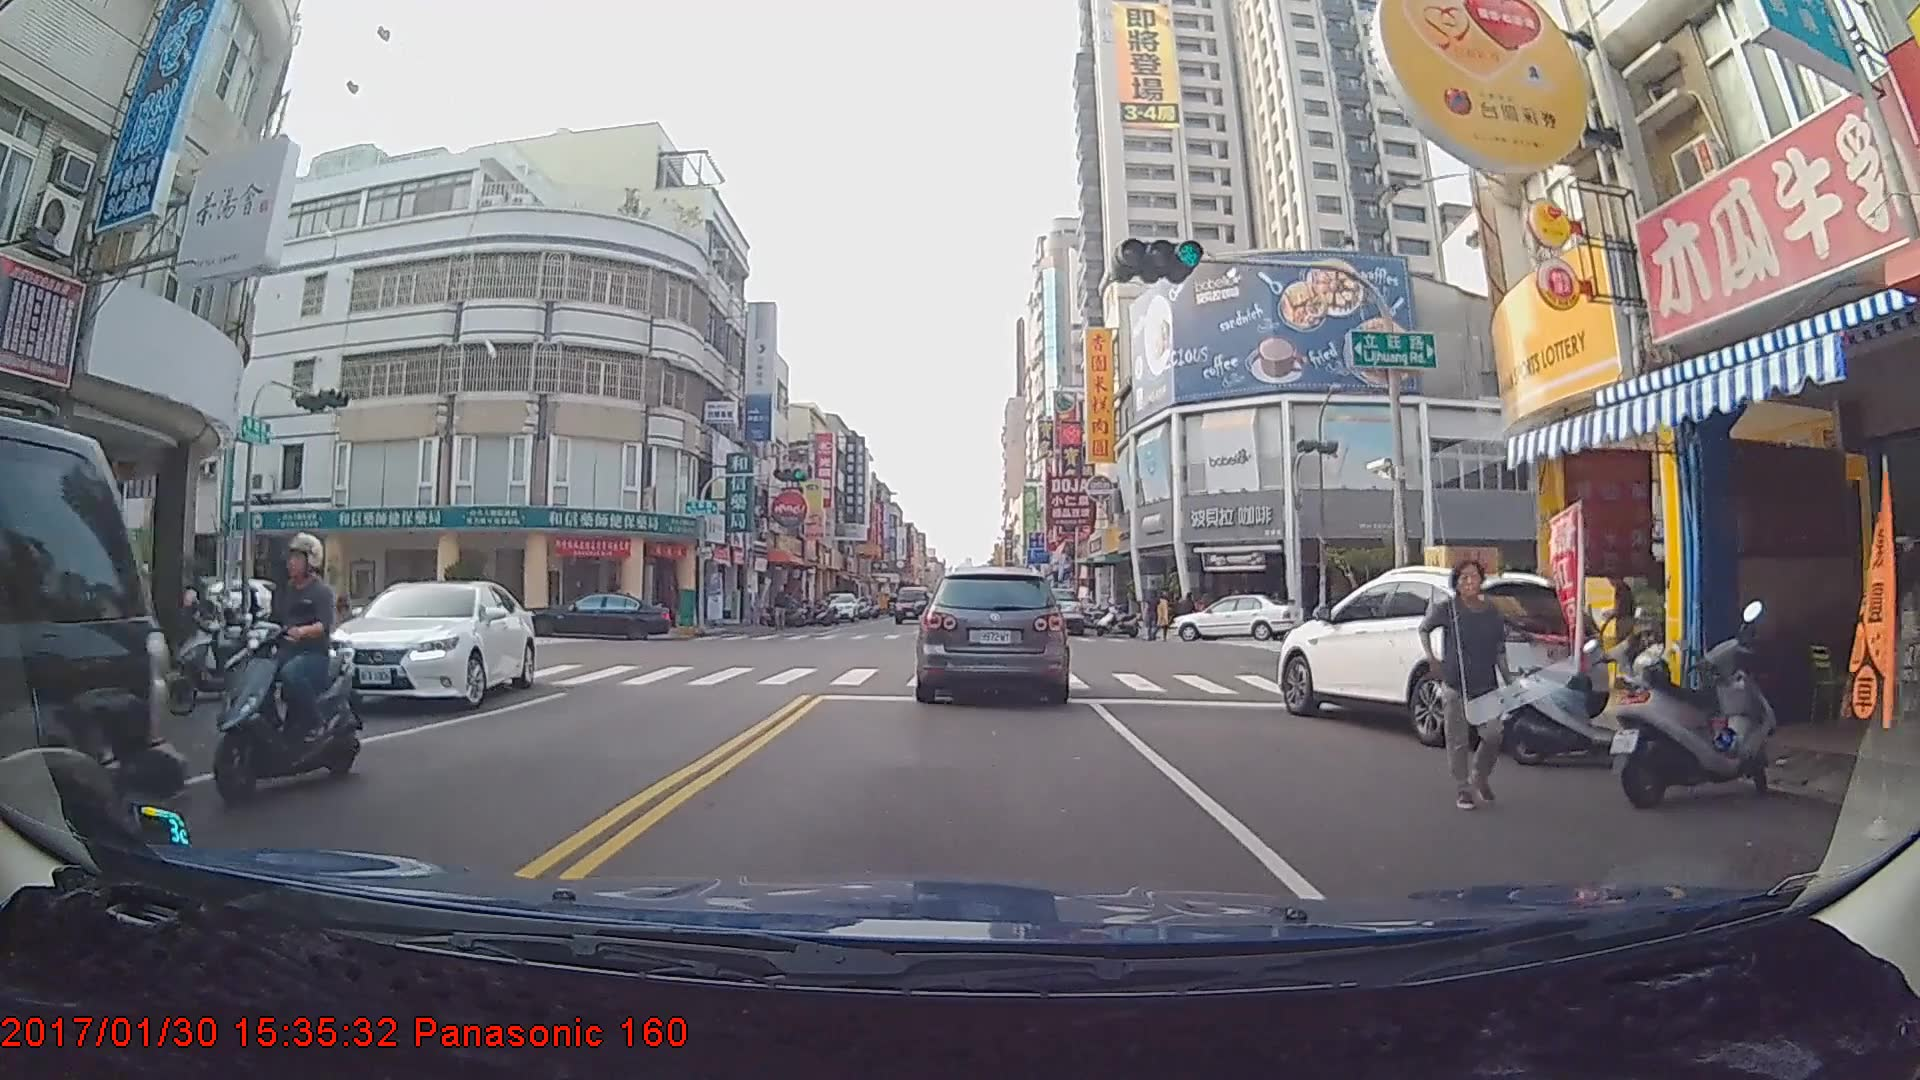pedestrian: (1423, 557, 1516, 815), (290, 560, 337, 693), (773, 585, 793, 631)
rider: (210, 523, 374, 795)
vehicle: (2, 401, 189, 1029), (1274, 560, 1610, 744), (326, 577, 534, 712), (916, 565, 1068, 702), (524, 587, 673, 639), (1169, 591, 1305, 642), (1024, 583, 1085, 635), (892, 584, 931, 623), (818, 590, 860, 620)
